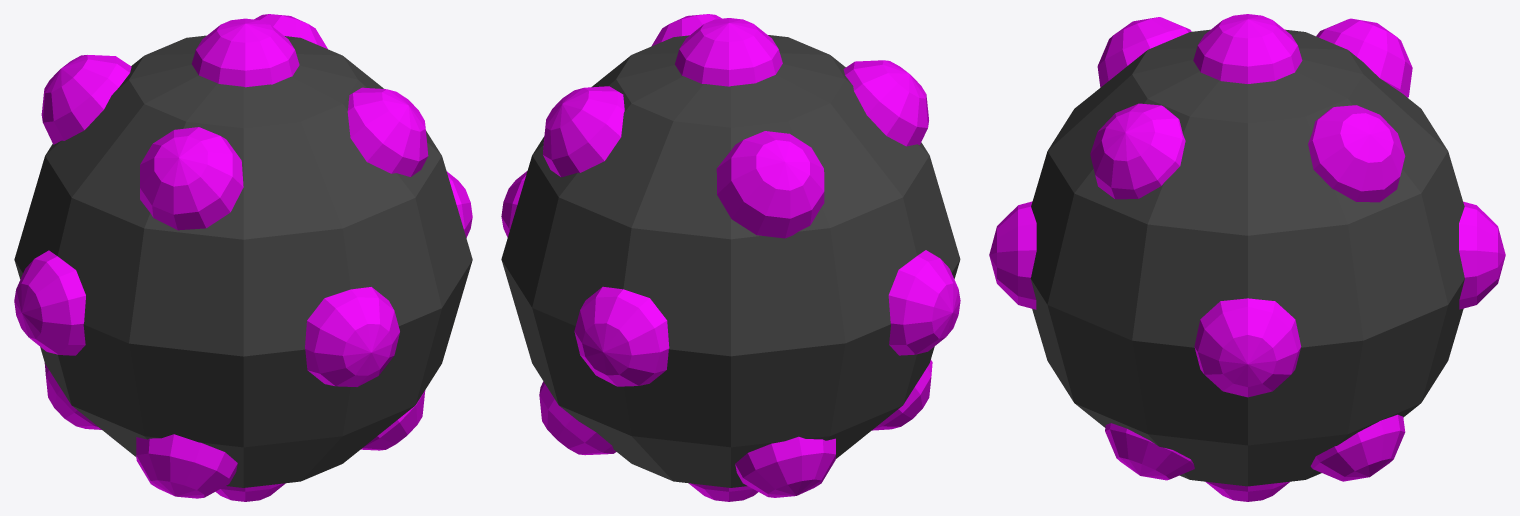
The model's file is Neon Survival Bomb 1.FBX.
The picture shows the model from 3 angles, left to right: view 1: azimuth 30°, elevation 25°; view 2: azimuth 150°, elevation 25°; view 3: azimuth 270°, elevation 25°; orthographic projection.
Visible parts, largest first — view 1: Sphere001, Sphere003, Sphere014, Sphere007, Sphere002, Sphere010, Sphere004, Sphere006, Sphere011, Sphere005, Sphere009, Sphere015 (+1 smaller); view 2: Sphere001, Sphere004, Sphere013, Sphere007, Sphere009, Sphere002, Sphere003, Sphere005, Sphere012, Sphere006, Sphere010, Sphere015 (+1 smaller); view 3: Sphere001, Sphere008, Sphere009, Sphere010, Sphere002, Sphere014, Sphere013, Sphere012, Sphere004, Sphere003, Sphere011, Sphere015.
Boxes of the visible parts, <box> form: Sphere001: <box>14,35,472,487</box>; Sphere003: <box>140,127,243,230</box>; Sphere014: <box>305,287,399,386</box>; Sphere007: <box>14,250,85,355</box>; Sphere002: <box>191,18,299,87</box>; Sphere010: <box>347,87,428,176</box>; Sphere004: <box>41,55,131,144</box>; Sphere006: <box>136,434,237,498</box>; Sphere011: <box>361,390,425,450</box>; Sphere005: <box>44,363,101,429</box>; Sphere009: <box>254,14,327,48</box>; Sphere015: <box>215,483,285,501</box>; Sphere001: <box>501,35,960,487</box>; Sphere004: <box>716,131,824,238</box>; Sphere013: <box>574,286,669,386</box>; Sphere007: <box>888,250,960,355</box>; Sphere009: <box>542,86,624,177</box>; Sphere002: <box>675,18,782,86</box>; Sphere003: <box>843,60,928,146</box>; Sphere005: <box>735,436,835,497</box>; Sphere012: <box>539,381,616,455</box>; Sphere006: <box>872,360,932,430</box>; Sphere010: <box>651,14,721,46</box>; Sphere015: <box>689,483,758,501</box>; Sphere001: <box>1030,29,1464,486</box>; Sphere008: <box>1194,298,1301,397</box>; Sphere009: <box>1308,105,1405,202</box>; Sphere010: <box>1090,103,1185,199</box>; Sphere002: <box>1193,14,1302,83</box>; Sphere014: <box>989,201,1036,309</box>; Sphere013: <box>1459,201,1505,309</box>; Sphere012: <box>1310,414,1405,481</box>; Sphere004: <box>1316,18,1412,97</box>; Sphere003: <box>1097,17,1191,87</box>; Sphere011: <box>1105,423,1194,480</box>; Sphere015: <box>1205,481,1289,501</box>.
Bounding box in the file's own units: 6.66 × 6.79 × 6.66.
